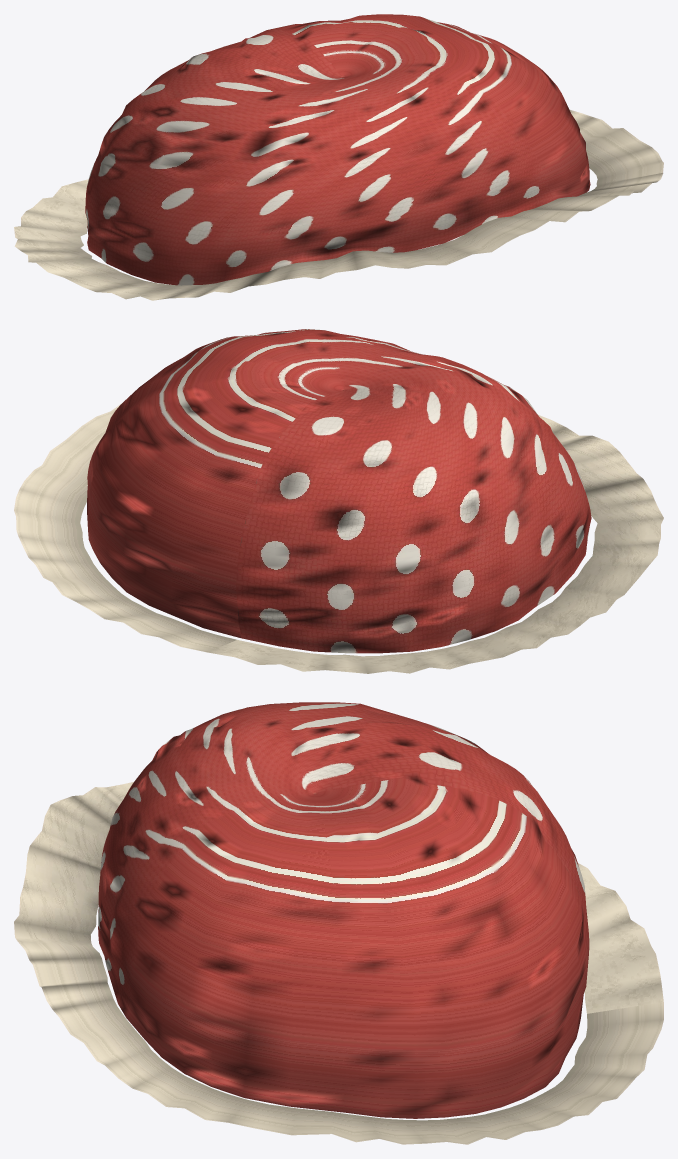
File: toadstool.glb
3 views of the same model, one above another, from view 1: azimuth 30°, elevation 25°; view 2: azimuth 150°, elevation 25°; view 3: azimuth 270°, elevation 25° (orthographic). The views are drawn at different scales.
Visible parts, largest first — view 1: toadstool_cap, toadstool_gills; view 2: toadstool_cap, toadstool_gills; view 3: toadstool_cap, toadstool_gills.
Part boxes in pixels (x1,y1,x2,y2): toadstool_cap: (85, 14, 590, 285); toadstool_gills: (14, 109, 663, 300); toadstool_cap: (87, 329, 591, 653); toadstool_gills: (14, 403, 663, 673); toadstool_cap: (98, 702, 589, 1118); toadstool_gills: (14, 782, 663, 1144).
Bounding box in the file's own units: 37 × 11.52 × 28.2.
1 material, 1 textured.
